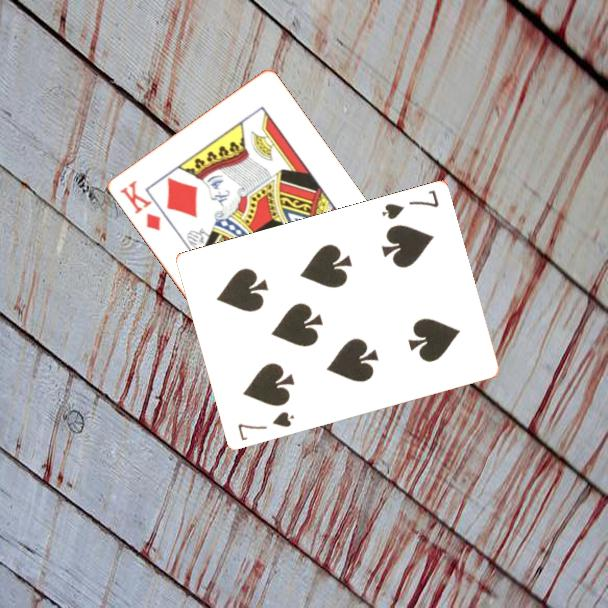d13: (116, 176, 163, 234)
s07: (378, 187, 442, 223), (234, 408, 297, 444)
